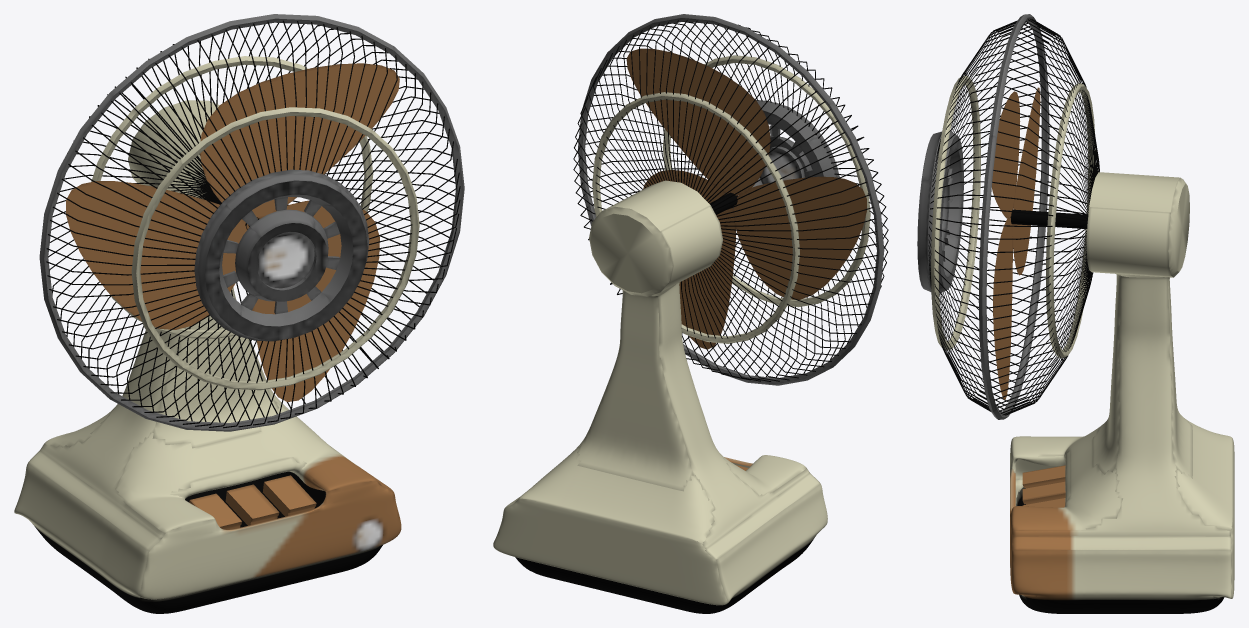
File: Fan.fbx
3 renders of one model, left to right at view 1: azimuth 30°, elevation 25°; view 2: azimuth 150°, elevation 25°; view 3: azimuth 270°, elevation 25°, orthographic. The views are drawn at different scales.
Parts seen in each view (by area): view 1: Head, Fan, Blades; view 2: Fan, Head, Blades; view 3: Fan, Head, Blades.
Boxes of the visible parts, x1,y1,x2,y2 form: Head: (39,14,464,431); Fan: (14,287,401,613); Blades: (66,63,399,401); Fan: (493,282,827,613); Head: (573,14,888,385); Blades: (626,48,866,349); Fan: (1010,274,1234,613); Head: (917,14,1189,419); Blades: (992,87,1088,399).
Size of the model in its own units: 359 by 520 by 282.
1 material, 1 textured.
